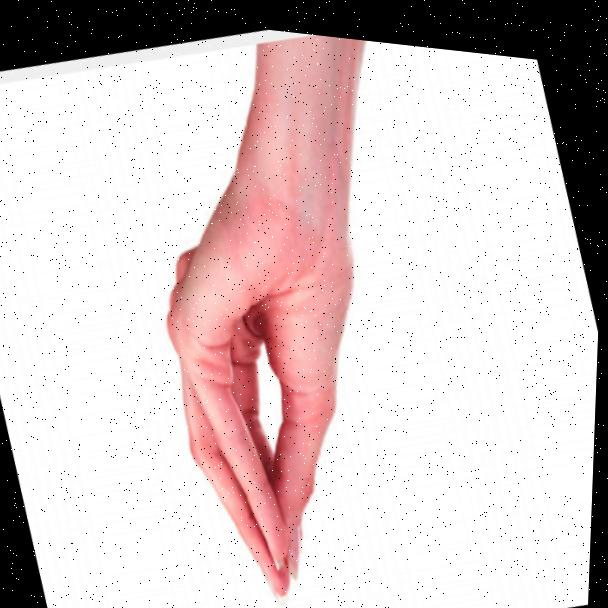five: (128, 176, 428, 608)
